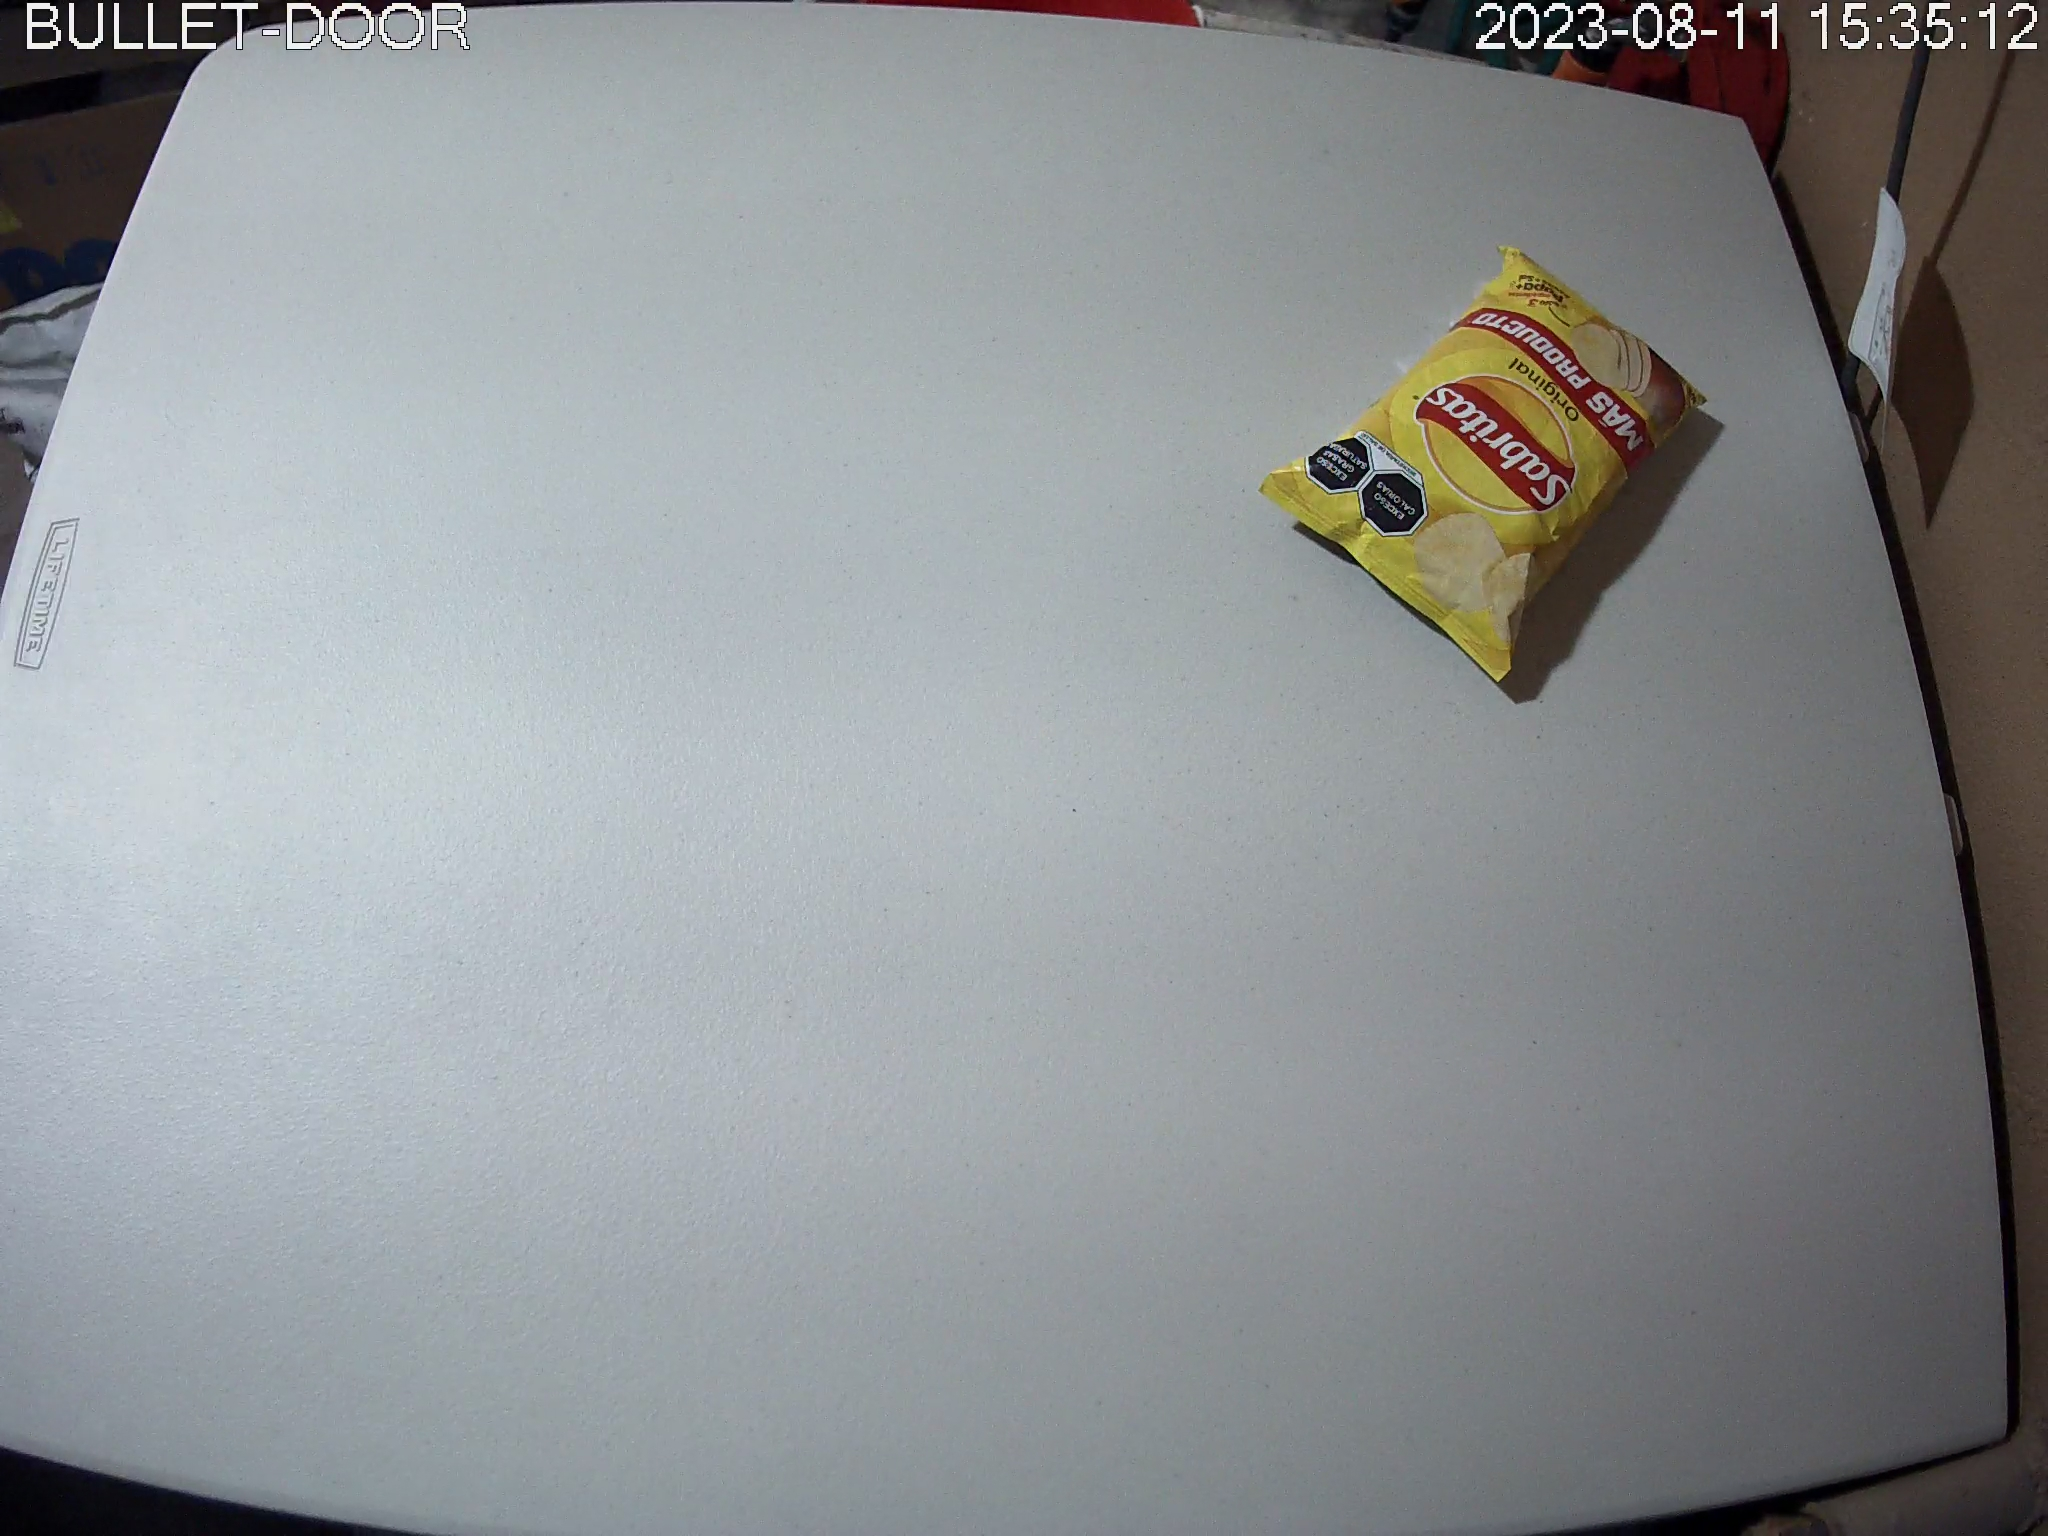Sabritas_45_F: (1256, 240, 1713, 682)
